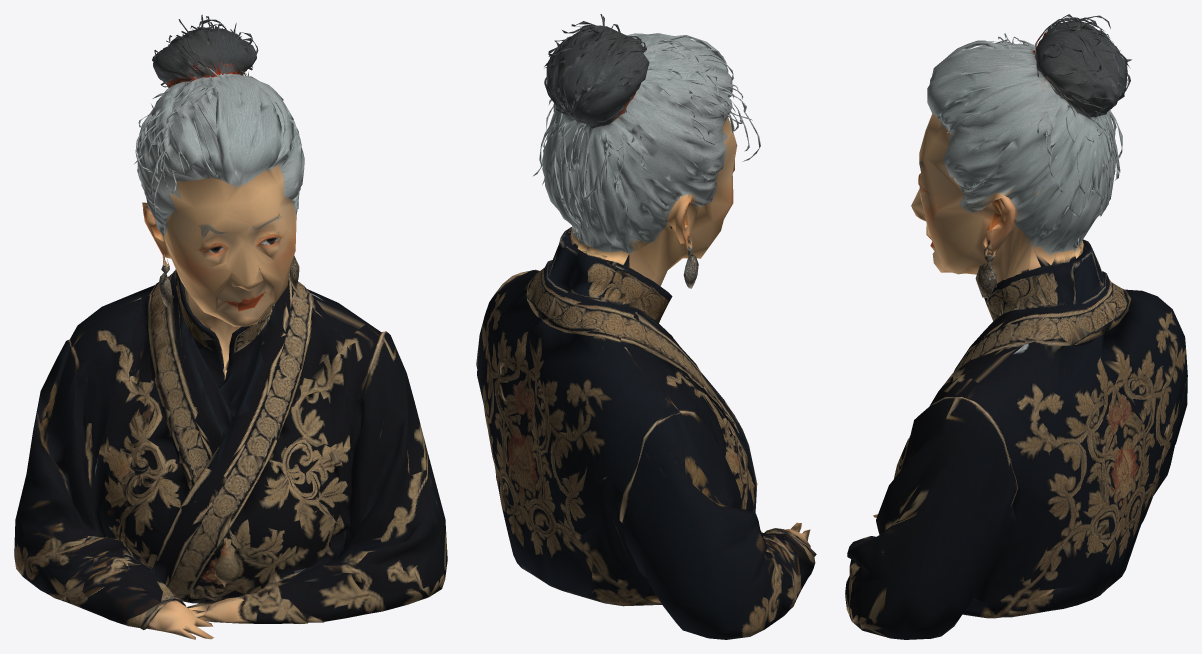
Rendered from sitter_09.glb.
3 views of the same model, side by side, from view 1: azimuth 30°, elevation 25°; view 2: azimuth 150°, elevation 25°; view 3: azimuth 270°, elevation 25° (orthographic). The views are drawn at different scales.
Parts seen in each view (by area): view 1: sitter_09; view 2: sitter_09; view 3: sitter_09.
Boxes of the visible parts, box(x1,y1,x2,y2) form: sitter_09: box(14, 14, 447, 639); sitter_09: box(476, 14, 816, 639); sitter_09: box(845, 14, 1187, 639).
Bounding box in the file's own units: 1.01 × 1.55 × 0.8786.
Materials: 1 (1 with a texture image).
